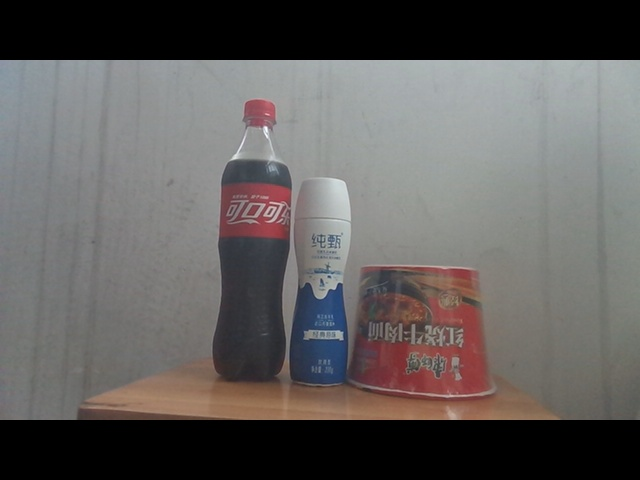cola: (213, 99, 291, 380)
kangshifu: (350, 265, 499, 401)
yogurt: (291, 176, 351, 389)
